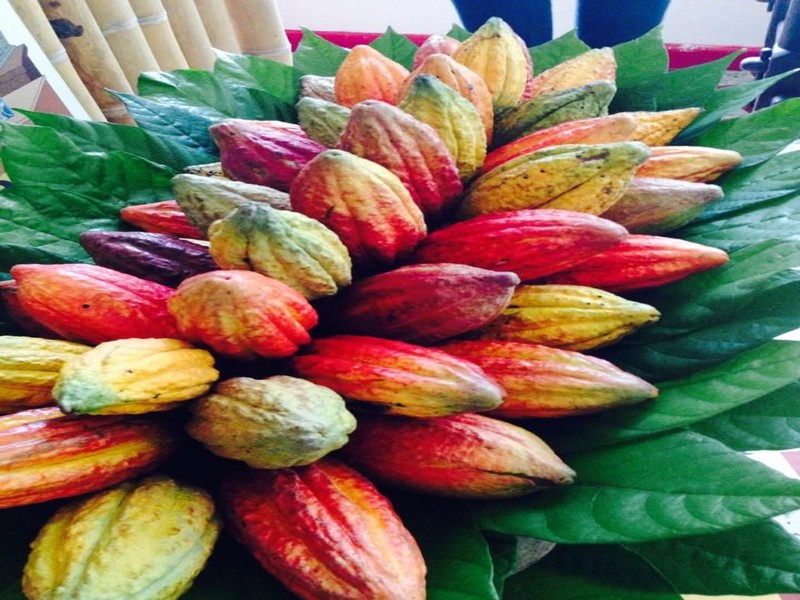Cacaopod: (187, 375, 356, 467), (204, 201, 352, 296)
